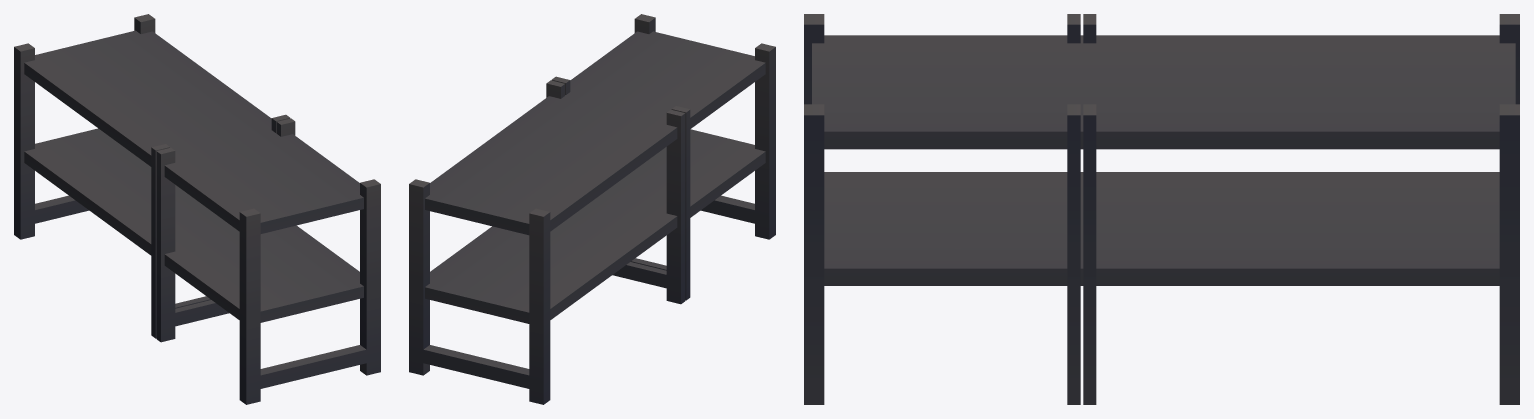
The model's file is Shelf_Short.fbx.
3 renders of one model, left to right at view 1: azimuth 30°, elevation 25°; view 2: azimuth 150°, elevation 25°; view 3: azimuth 270°, elevation 25°, orthographic. The views are drawn at different scales.
Parts seen in each view (by area): view 1: Shelf_Short; view 2: Shelf_Short; view 3: Shelf_Short.
Boxes of the visible parts, x1,y1,x2,y2 form: Shelf_Short: [14, 14, 380, 404]; Shelf_Short: [409, 14, 775, 404]; Shelf_Short: [804, 14, 1519, 404].
Size of the model in its own units: 109 by 145 by 325.
